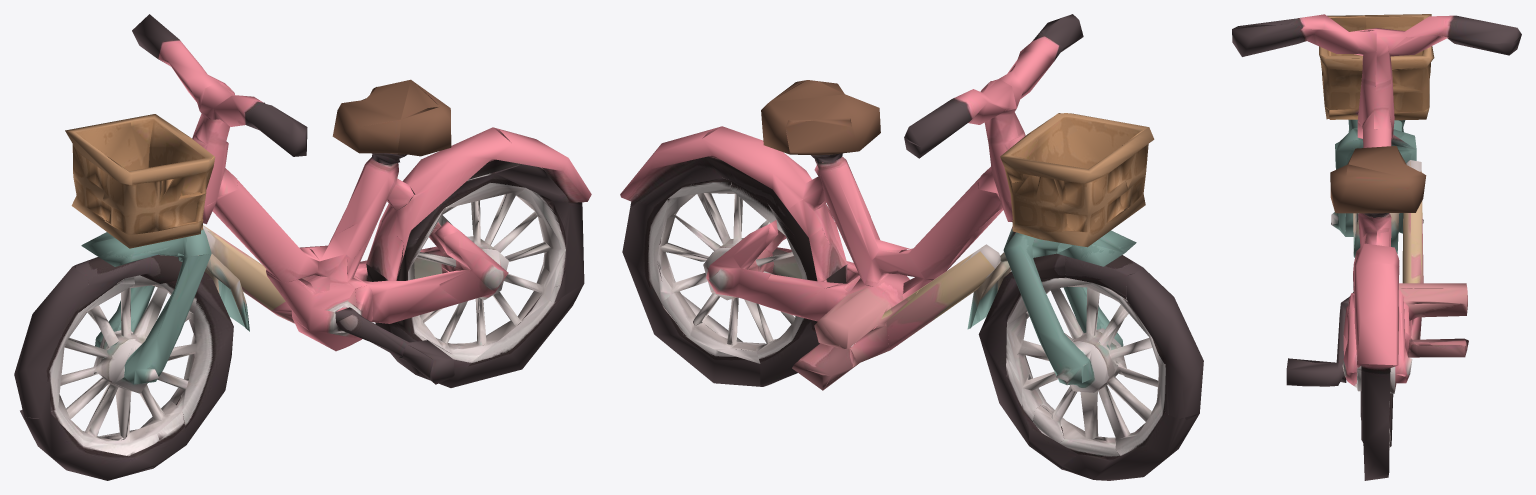
The model's file is M-10_06_bicycles.glb.
3 views of the same model, side by side, from view 1: azimuth 30°, elevation 25°; view 2: azimuth 150°, elevation 25°; view 3: azimuth 270°, elevation 25° (orthographic). The views are drawn at different scales.
Visible parts, largest first — view 1: bicycles; view 2: bicycles; view 3: bicycles.
Part boxes in pixels (x1=…): bicycles: x1=14, y1=14, x2=591, y2=480; bicycles: x1=620, y1=14, x2=1203, y2=480; bicycles: x1=1232, y1=14, x2=1521, y2=480.
Size of the model in its own units: 2.31 by 1.51 by 1.14.
1 material, 1 textured.
